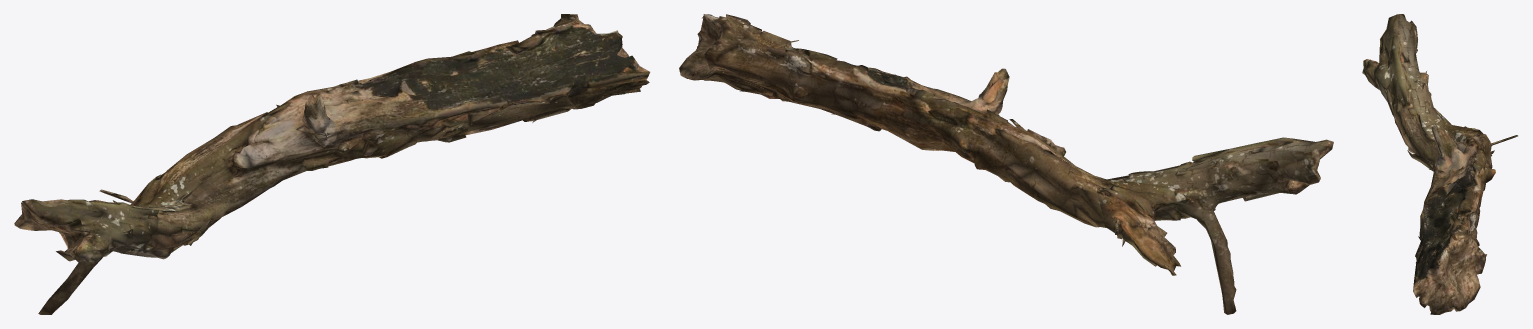
The model's file is dead_tree_trunk_02.81179633.glb.
3 renders of one model, left to right at view 1: azimuth 30°, elevation 25°; view 2: azimuth 150°, elevation 25°; view 3: azimuth 270°, elevation 25°, orthographic. The views are drawn at different scales.
Visible parts, largest first — view 1: dead_tree_trunk_02; view 2: dead_tree_trunk_02; view 3: dead_tree_trunk_02.
Part boxes in pixels (left/top/right/bottom): dead_tree_trunk_02: left=14, top=14, right=650, bottom=314; dead_tree_trunk_02: left=679, top=14, right=1333, bottom=314; dead_tree_trunk_02: left=1362, top=14, right=1517, bottom=314.
Size of the model in its own units: 4.05 by 1.05 by 1.05.
Materials: 1 (1 with a texture image).
